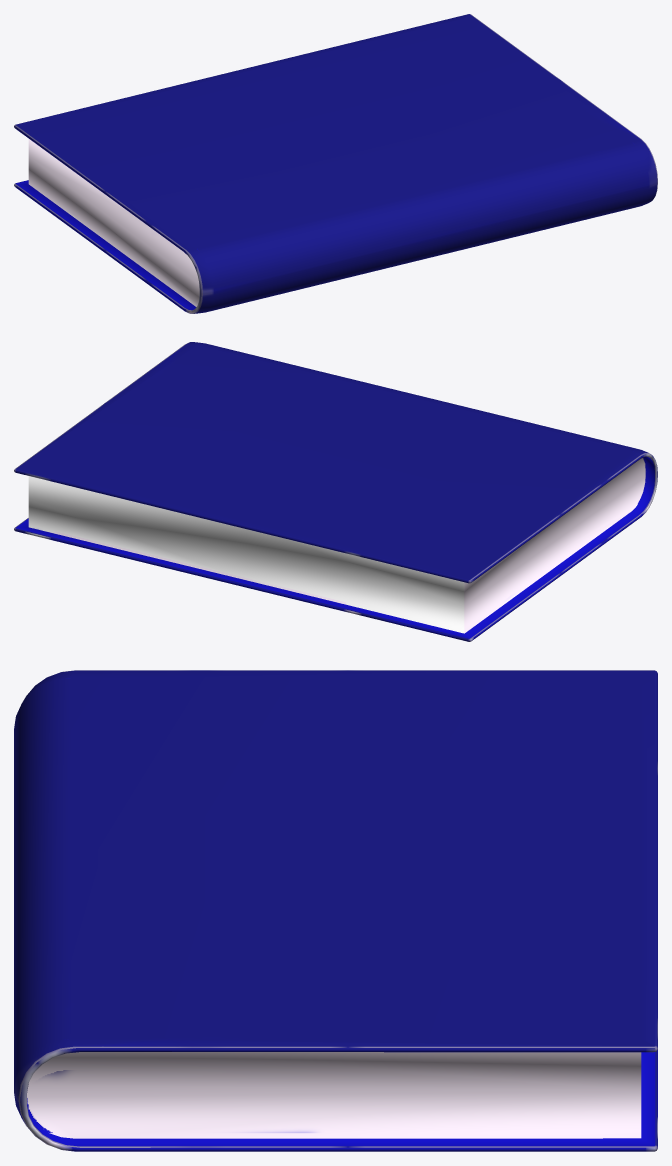
Rendered from notebook.gltf.
3 views of the same model, one above another, from view 1: azimuth 30°, elevation 25°; view 2: azimuth 150°, elevation 25°; view 3: azimuth 270°, elevation 25° (orthographic). The views are drawn at different scales.
Visible parts, largest first — view 1: Book; view 2: Book; view 3: Book.
Boxes of the visible parts, x1,y1,x2,y2 form: Book: (14, 14, 657, 313); Book: (14, 342, 657, 641); Book: (14, 670, 657, 1151).
Bounding box in the file's own units: 2.52 × 0.3252 × 1.81.
1 material, 1 textured.
